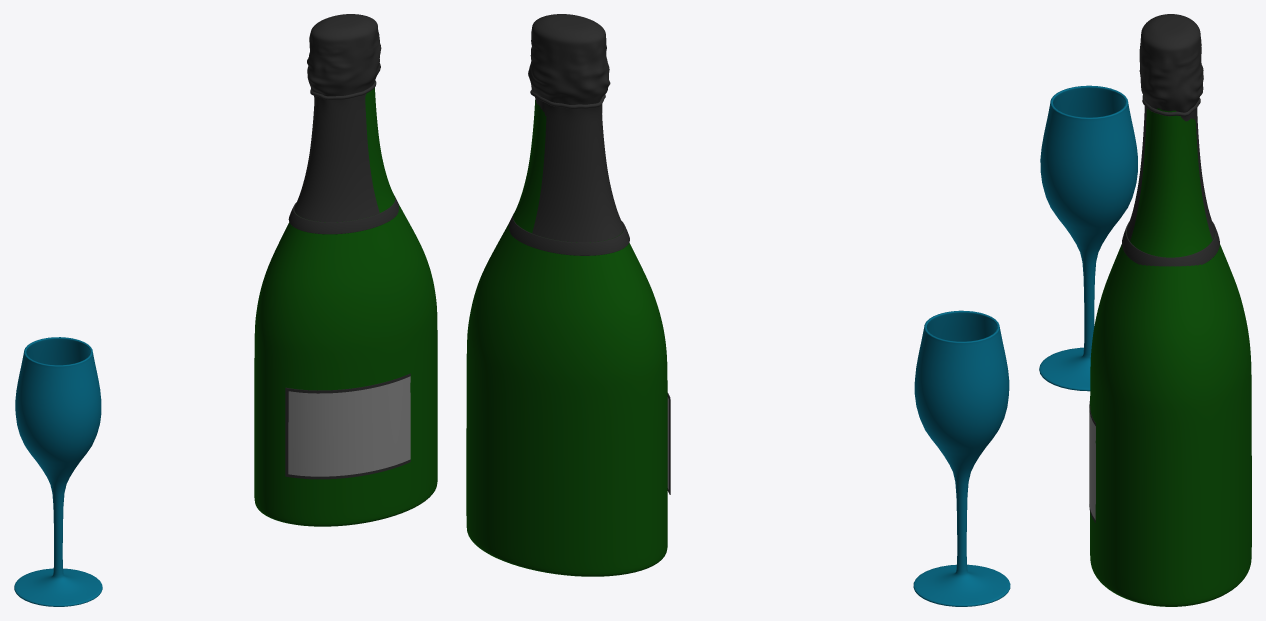
Rendered from 酒瓶  玻璃杯.FBX.
The picture shows the model from 3 angles, left to right: view 1: azimuth 30°, elevation 25°; view 2: azimuth 150°, elevation 25°; view 3: azimuth 270°, elevation 25°; orthographic projection. The views are drawn at different scales.
Parts seen in each view (by area): view 1: 酒瓶, bolibei, Obj3d66-517098-2-149, Obj3d66-517098-6-245, 组001; view 2: 酒瓶, bolibei, Obj3d66-517098-2-149, 组001; view 3: 酒瓶, bolibei, 组001, Obj3d66-517098-2-149, Obj3d66-517098-6-245.
Part boxes in pixels (left/top/right/bottom): 酒瓶: left=254, top=87, right=437, bottom=526; bolibei: left=14, top=337, right=102, bottom=606; Obj3d66-517098-2-149: left=285, top=80, right=410, bottom=479; Obj3d66-517098-6-245: left=288, top=376, right=410, bottom=476; 组001: left=307, top=14, right=381, bottom=96; 酒瓶: left=466, top=99, right=667, bottom=576; bolibei: left=913, top=310, right=1010, bottom=606; Obj3d66-517098-2-149: left=509, top=89, right=670, bottom=494; 组001: left=528, top=14, right=610, bottom=104; 酒瓶: left=1090, top=108, right=1251, bottom=606; bolibei: left=1039, top=85, right=1137, bottom=391; 组001: left=1139, top=14, right=1203, bottom=112; Obj3d66-517098-2-149: left=1089, top=95, right=1219, bottom=522; Obj3d66-517098-6-245: left=1089, top=408, right=1095, bottom=519.
Size of the model in its own units: 8.24 by 8.37 by 3.
